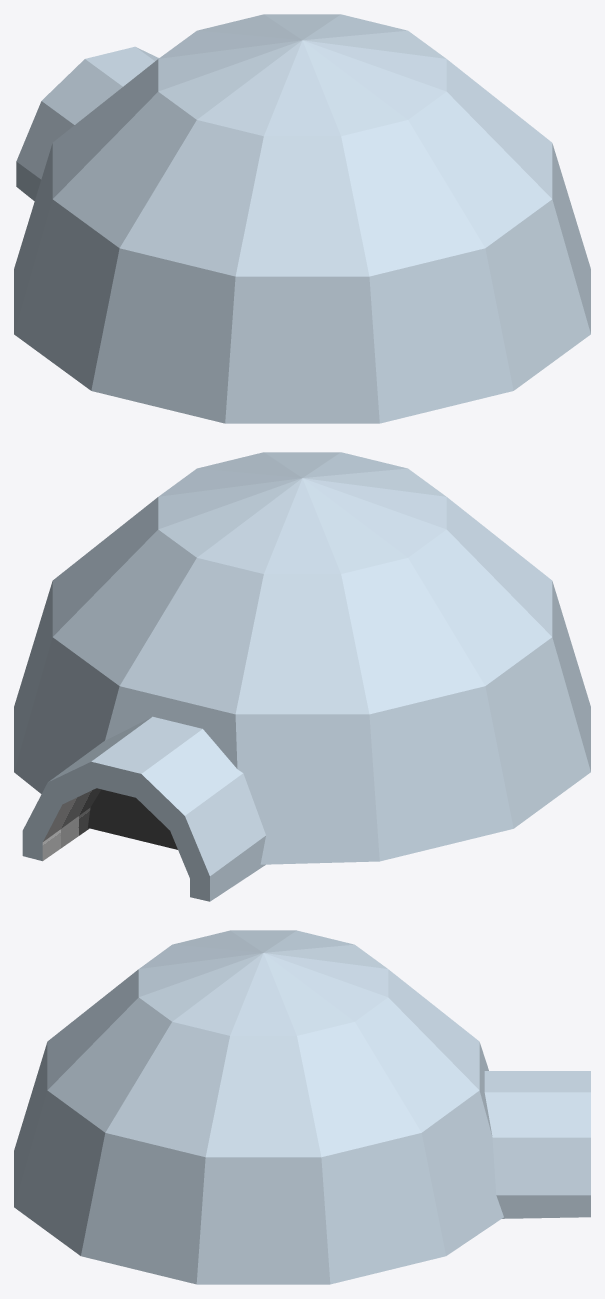
File: iglu.gltf
The picture shows the model from 3 angles, top to bottom: view 1: azimuth 30°, elevation 25°; view 2: azimuth 150°, elevation 25°; view 3: azimuth 270°, elevation 25°; orthographic projection. The views are drawn at different scales.
Parts seen in each view (by area): view 1: sphere, tube; view 2: sphere, tube; view 3: sphere, tube.
Part boxes in pixels (box(x1,y1,x2,y2)): sphere: box(14, 14, 590, 423); tube: box(16, 46, 158, 200); sphere: box(14, 452, 590, 864); tube: box(22, 716, 265, 901); sphere: box(14, 930, 503, 1284); tube: box(484, 1071, 590, 1218).
Size of the model in its own units: 1 by 0.5095 by 1.16.
Materials: 1 (1 with a texture image).
